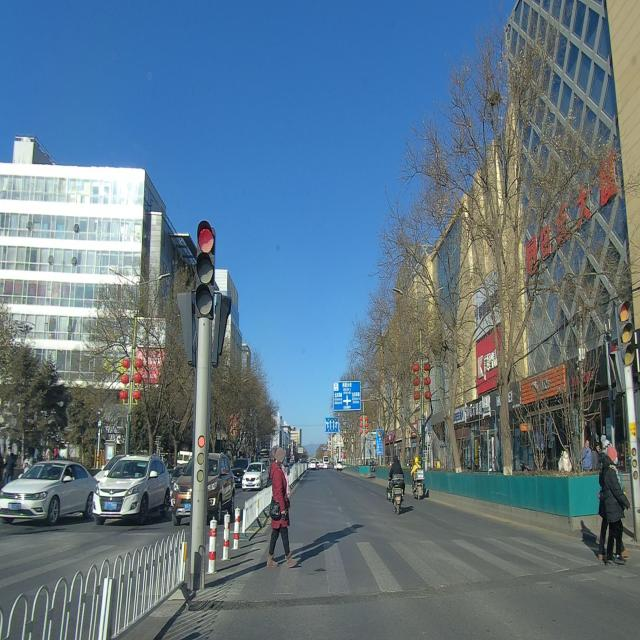Traffic Light -Off-: (614, 294, 638, 370)
Traffic Light -Red-: (192, 218, 219, 327)
